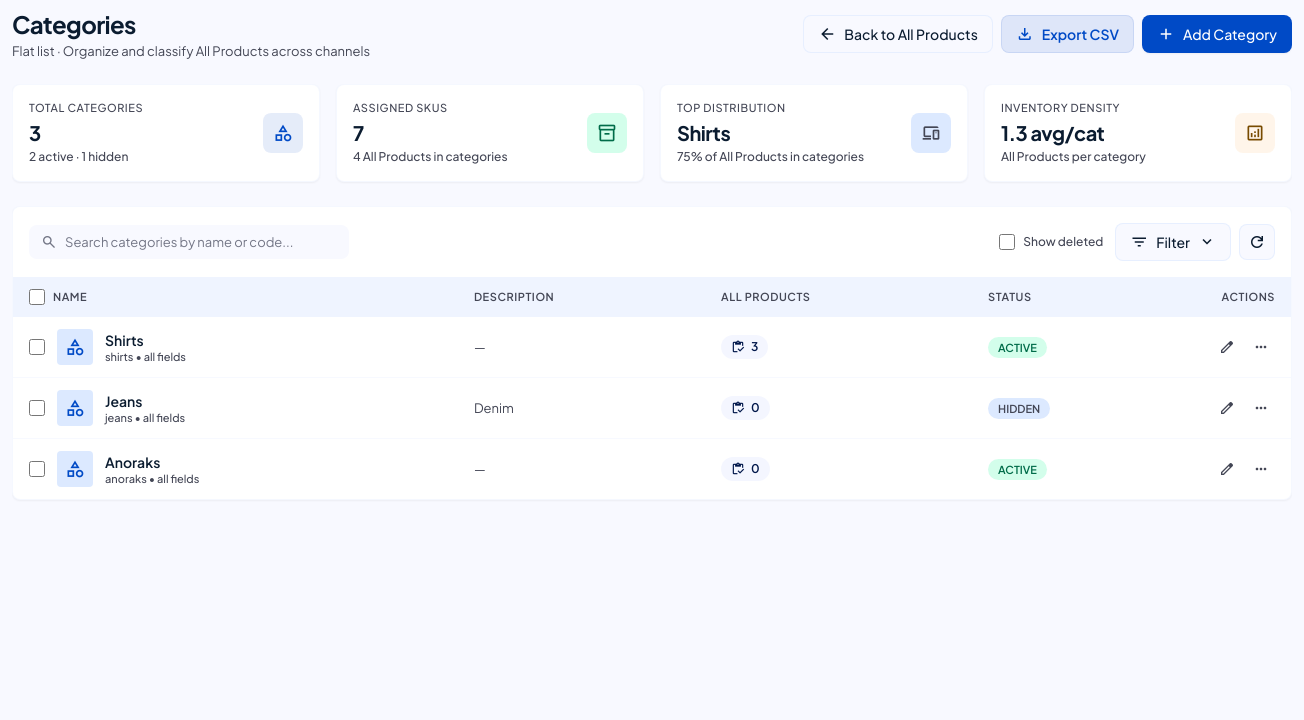
Test case: CategoryTreePage — search, filter, sort, show deleted › closes a row menu with Escape
The width and height of the screenshot is (1304, 720).
Click the button named "More actions for Shirts". click: (1261, 347)
box: [1247, 333, 1275, 361]
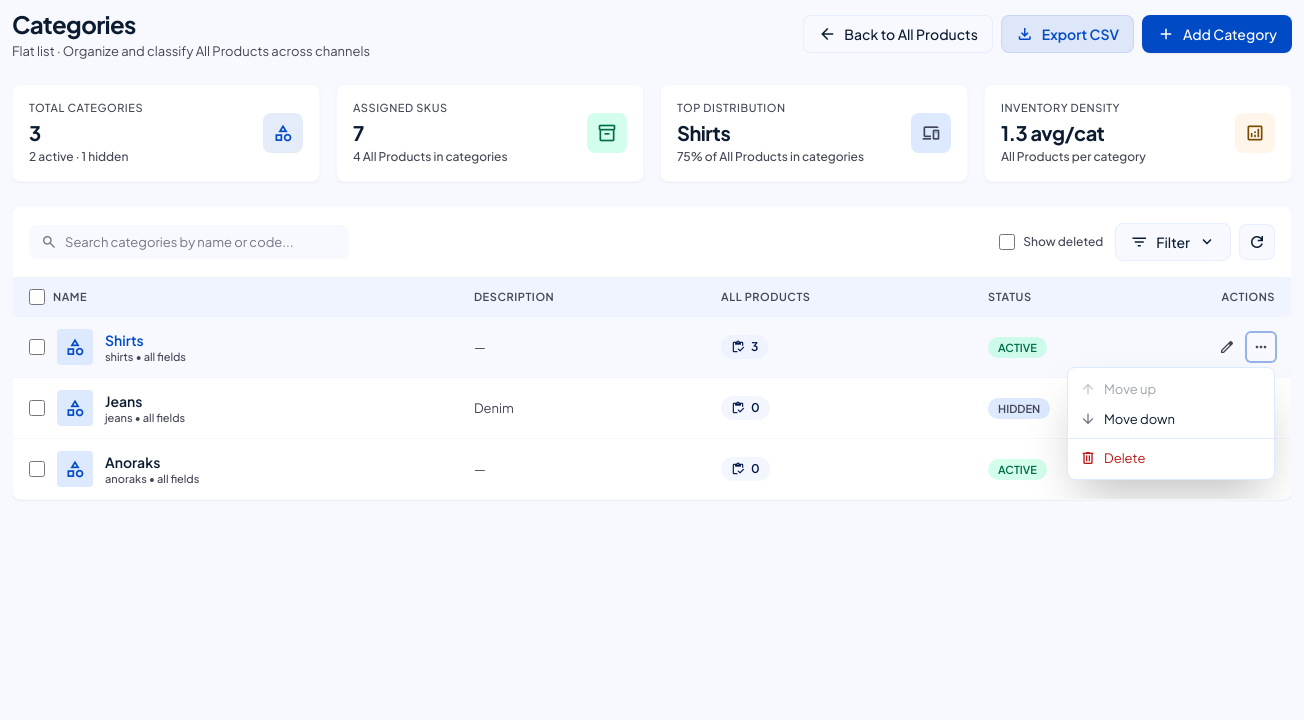
Result: the menu is shown at [1067, 367, 1275, 480]
Press Escape
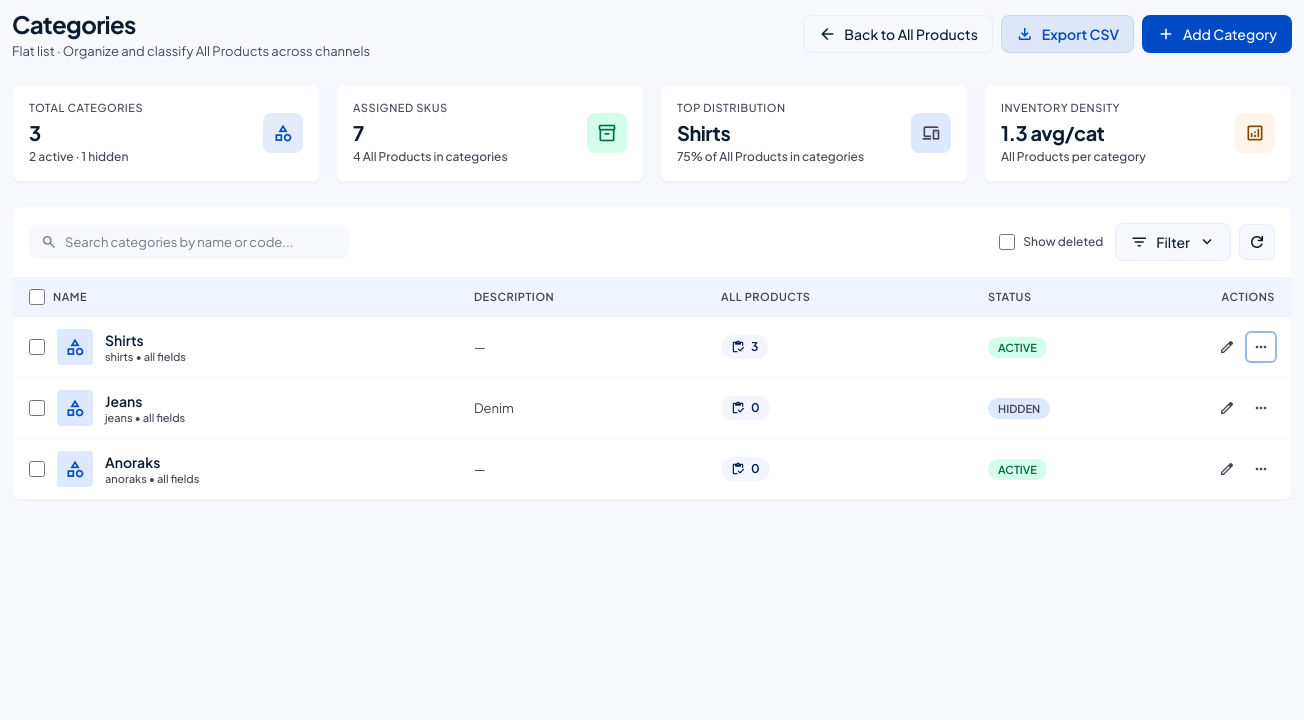
Result: the menu is gone
